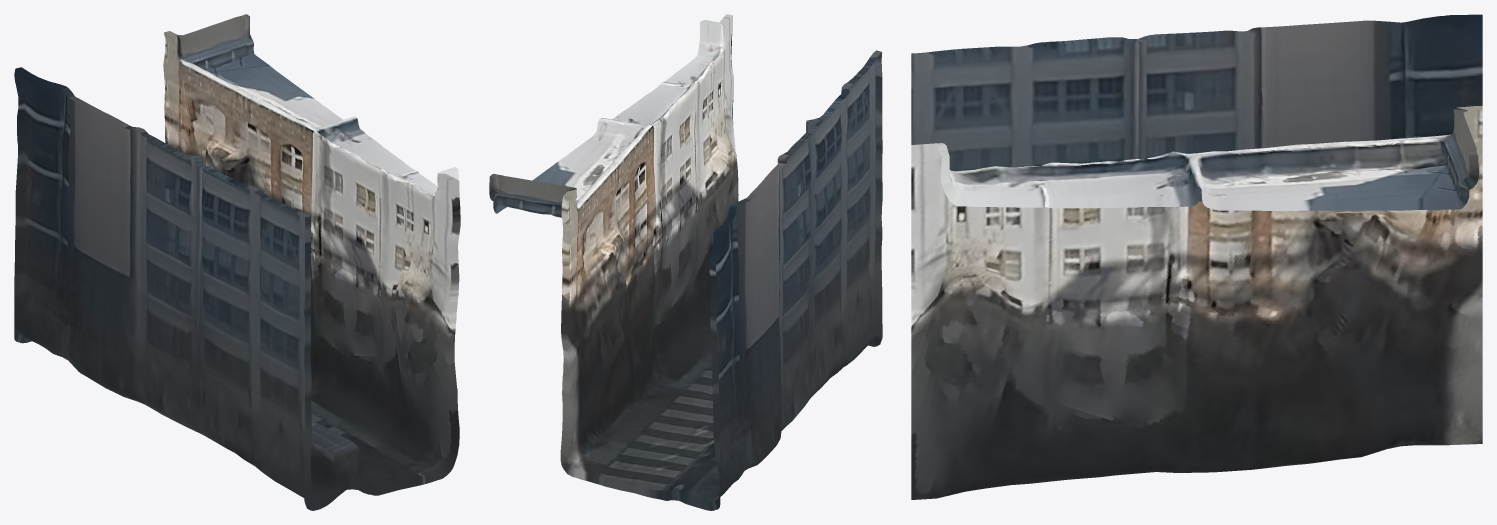
Rendered from z20-167757-405240-h0-yup-uvflip-v3-world.glb.
3 renders of one model, left to right at view 1: azimuth 30°, elevation 25°; view 2: azimuth 150°, elevation 25°; view 3: azimuth 270°, elevation 25°, orthographic. The views are drawn at different scales.
Size of the model in its own units: 17.88 by 21.88 by 30.32.
Materials: 1 (1 with a texture image).
